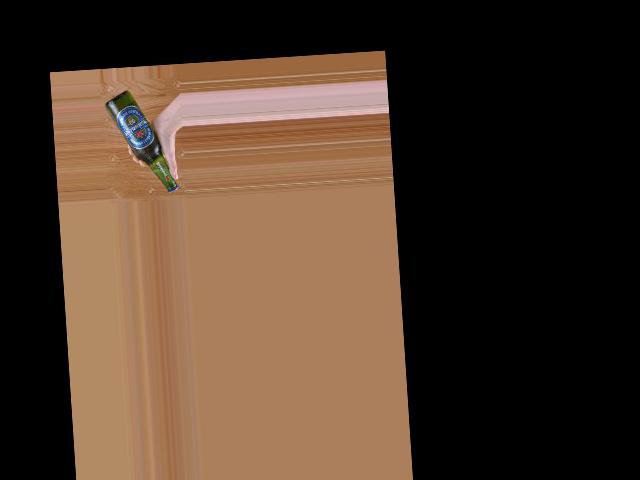beer: (104, 87, 178, 197)
